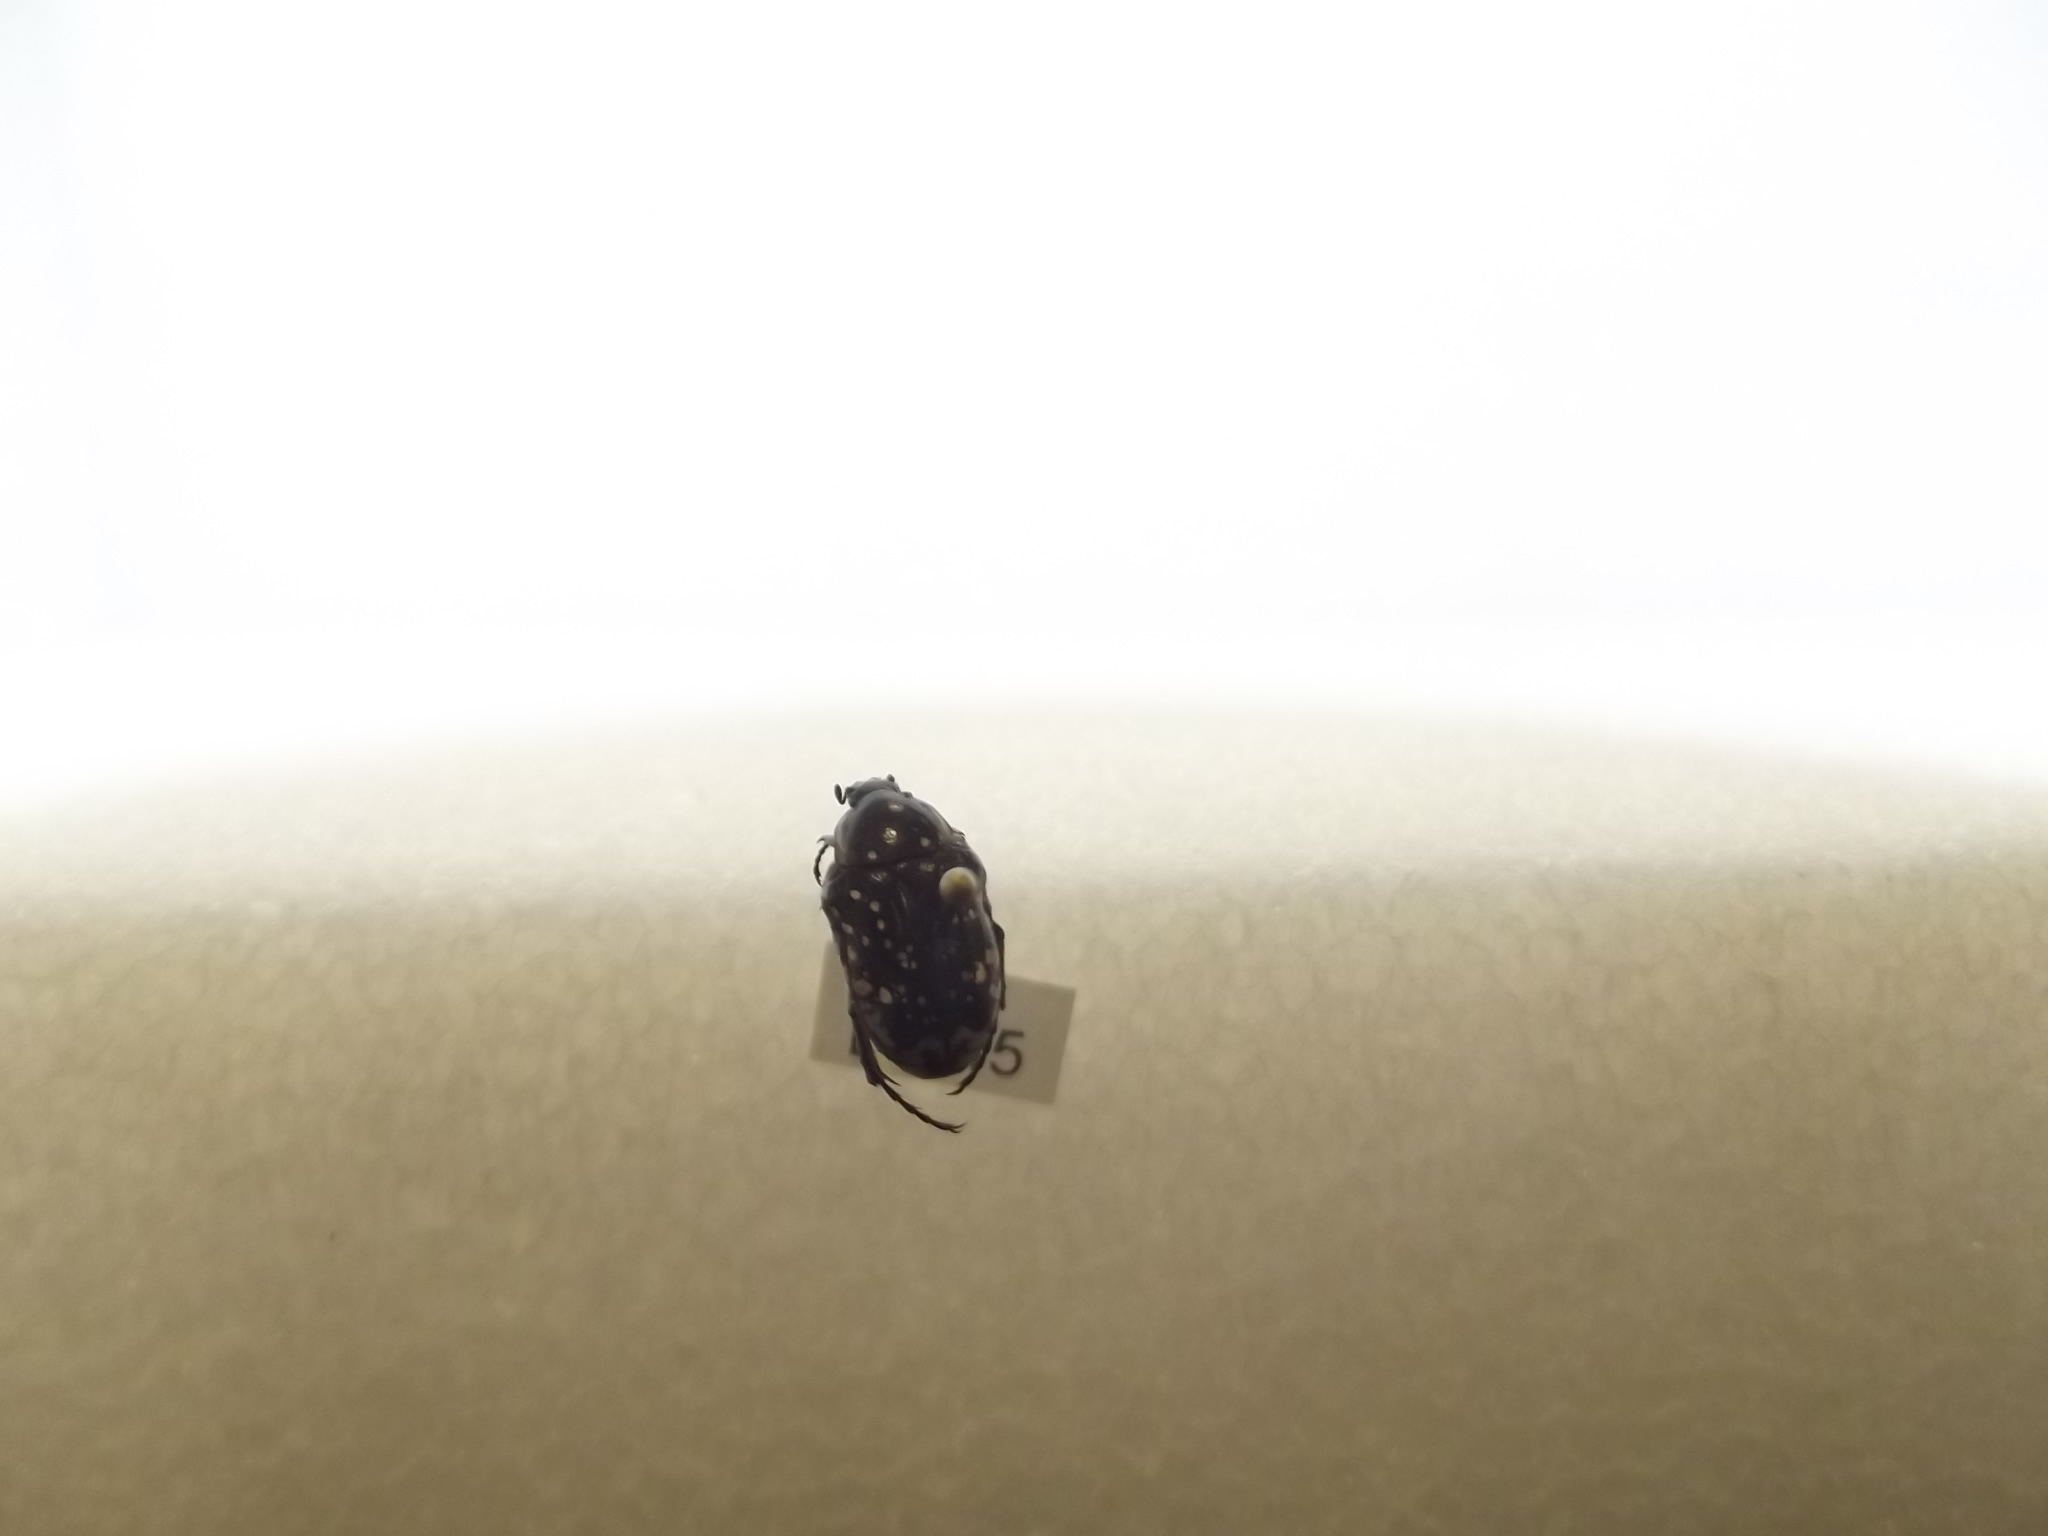Oxythyrea_cinctella: (818, 757, 1024, 1139)
